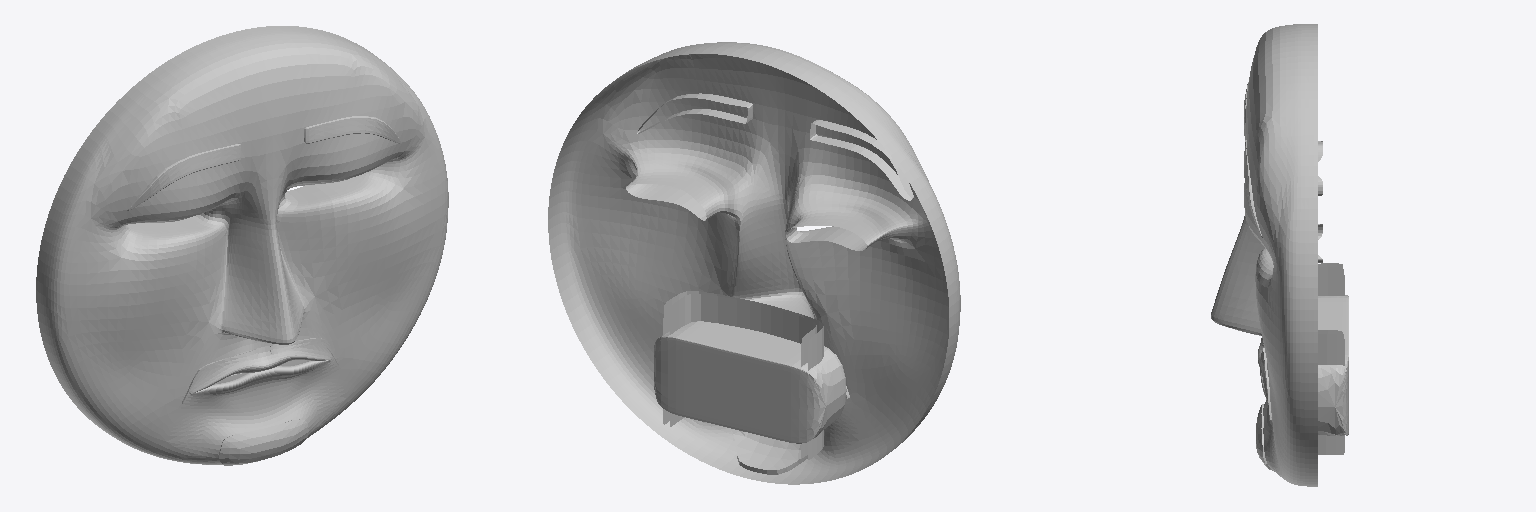
File: Ming Ding.obj
3 views of the same model, side by side, from view 1: azimuth 30°, elevation 25°; view 2: azimuth 150°, elevation 25°; view 3: azimuth 270°, elevation 25° (orthographic).
Parts seen in each view (by area): view 1: Circle.012_Circle.021; view 2: Circle.012_Circle.021; view 3: Circle.012_Circle.021.
Part boxes in pixels (left/top/right/bottom): Circle.012_Circle.021: left=36, top=26, right=448, bottom=465; Circle.012_Circle.021: left=548, top=42, right=960, bottom=484; Circle.012_Circle.021: left=1211, top=24, right=1348, bottom=486.
Bounding box in the file's own units: 50.64 × 50.76 × 15.12.